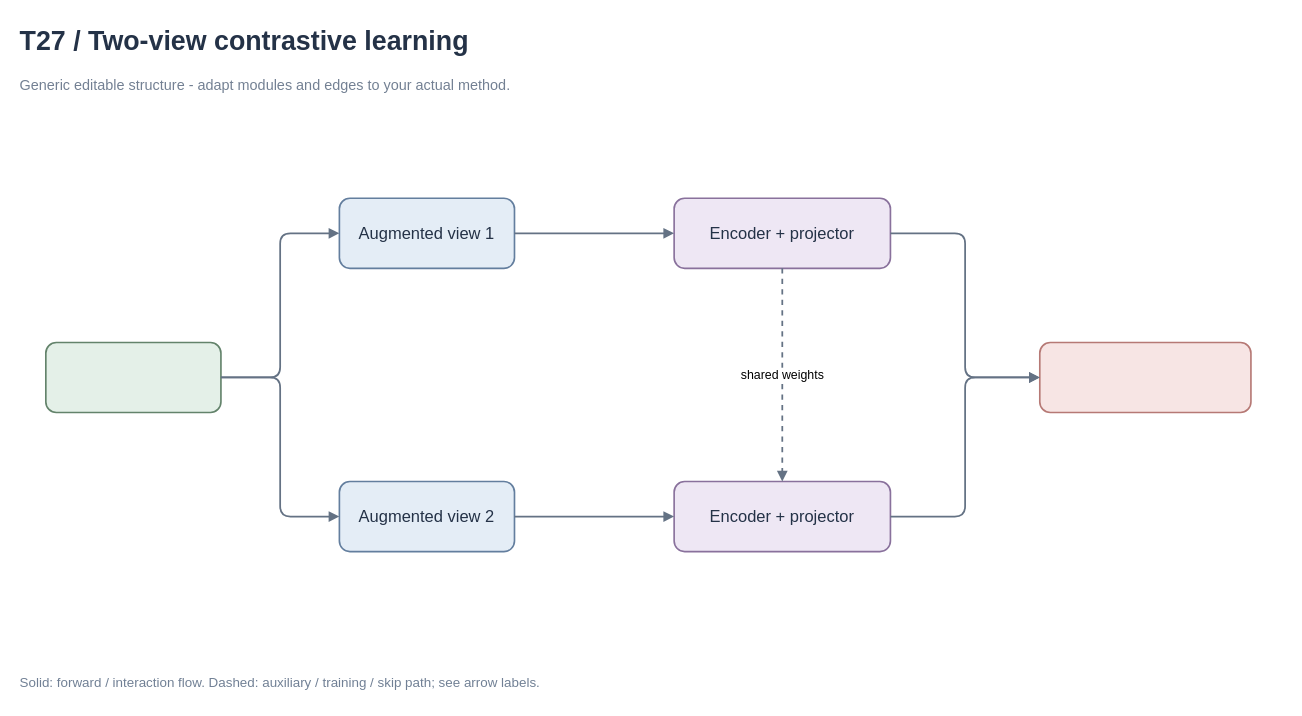
Image size: 1302x716. Some labels were removed from this diagram. Here are the shapes that lost their labels. From the top down, the box of each, then its label:
(44, 341, 221, 413): Unlabeled sample
(1038, 341, 1251, 413): Contrastive objective
